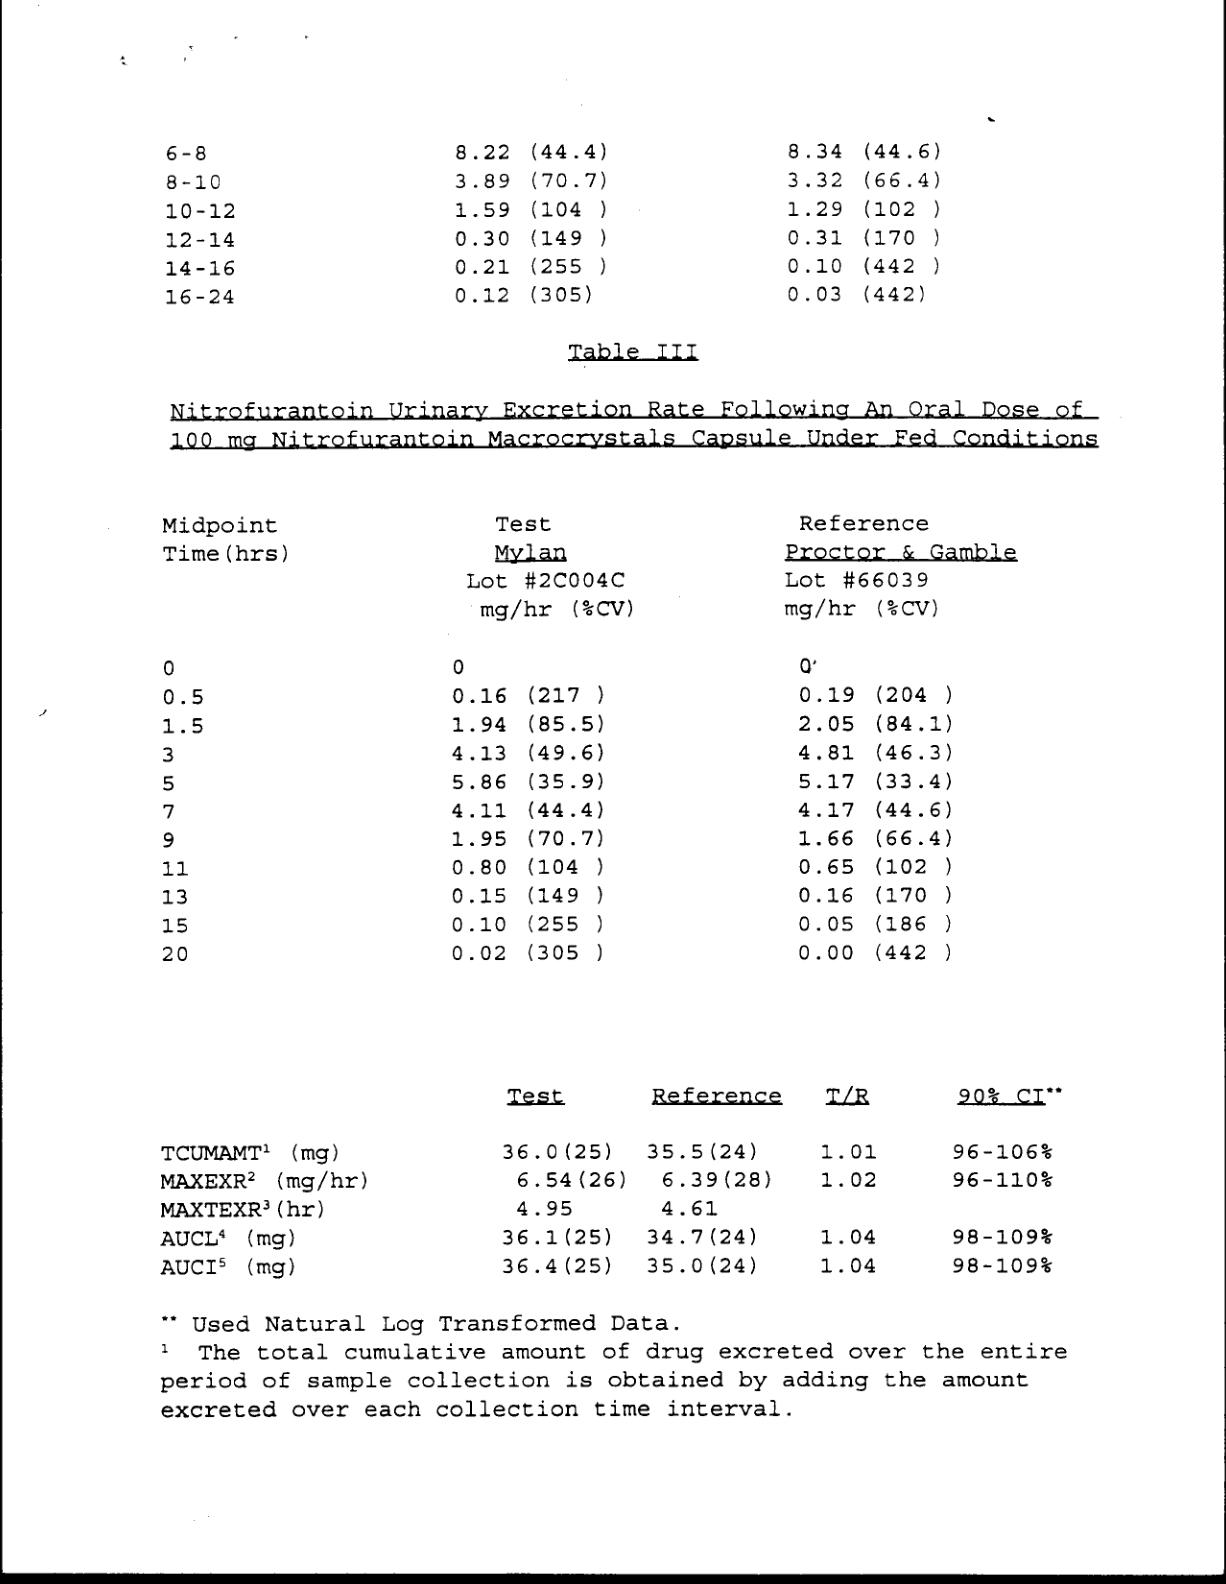nolines: (157, 513, 1024, 967), (158, 1083, 1060, 1281), (164, 139, 947, 312)
